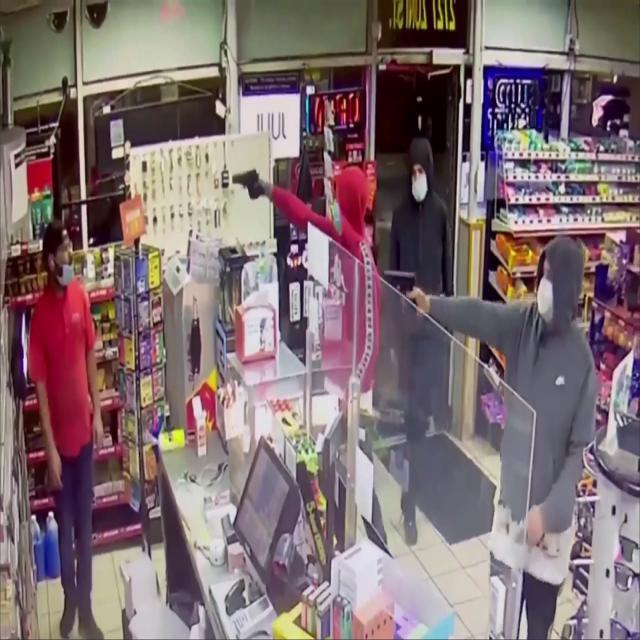gun: (382, 269, 420, 317), (232, 169, 262, 200)
